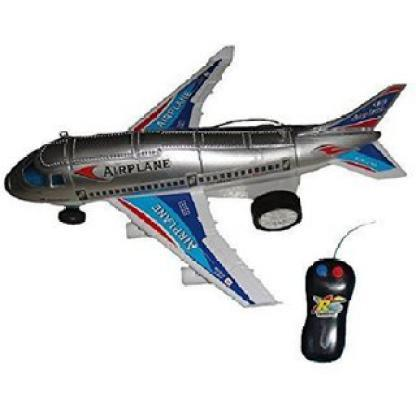CIV_Plane: (0, 36, 403, 318)
